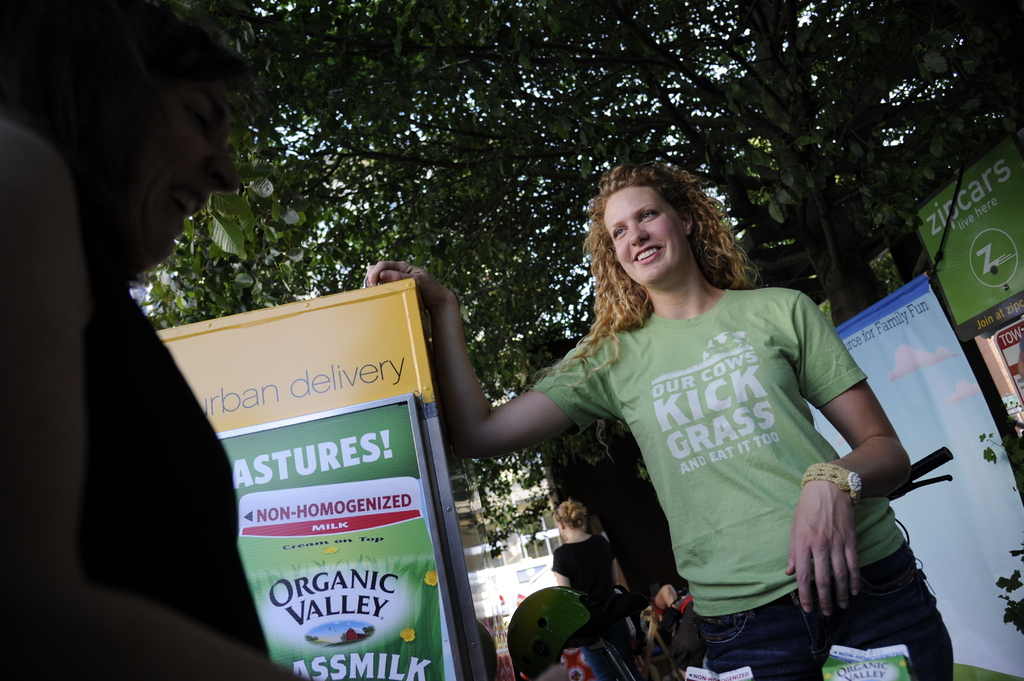Tree: (130, 0, 1023, 604)
